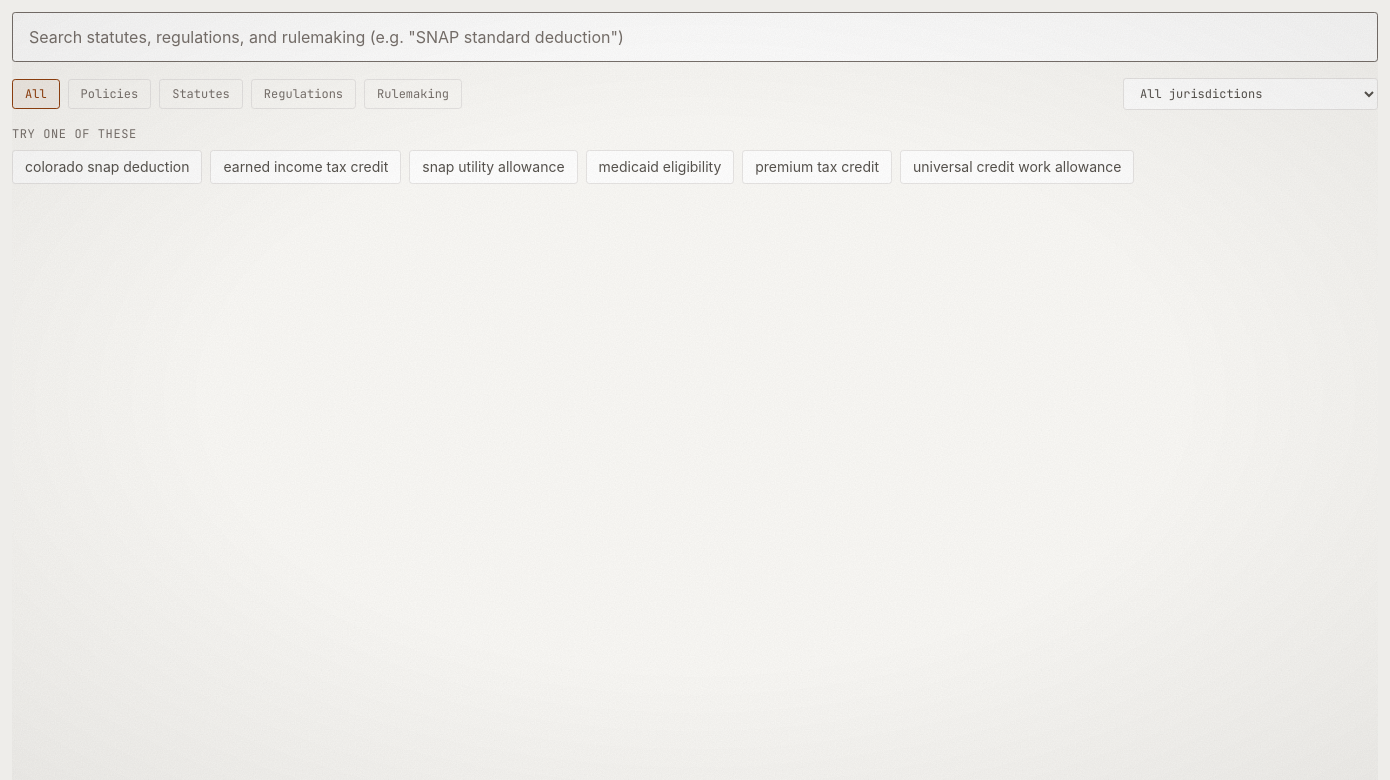
AxiomSearch › offers verified suggestions on the empty page and runs one on click
Expected: the text "Try one of these" is shown, [12,126,137,142]
Click the button "colorado snap deduction": (107, 167) [12,150,202,184]
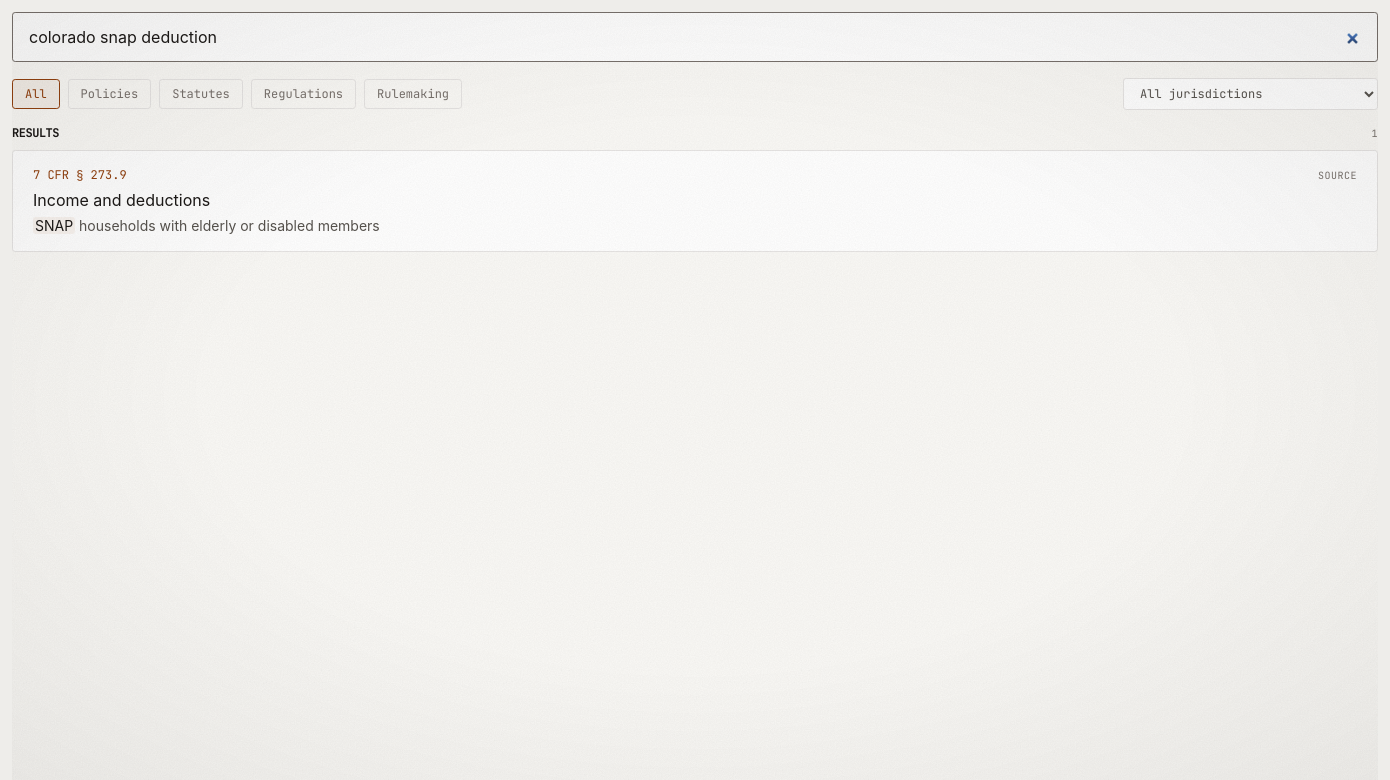
Expected: the search field holds "colorado snap deduction", [12,12,1378,62]
Expected: the text "Try one of these" is gone
